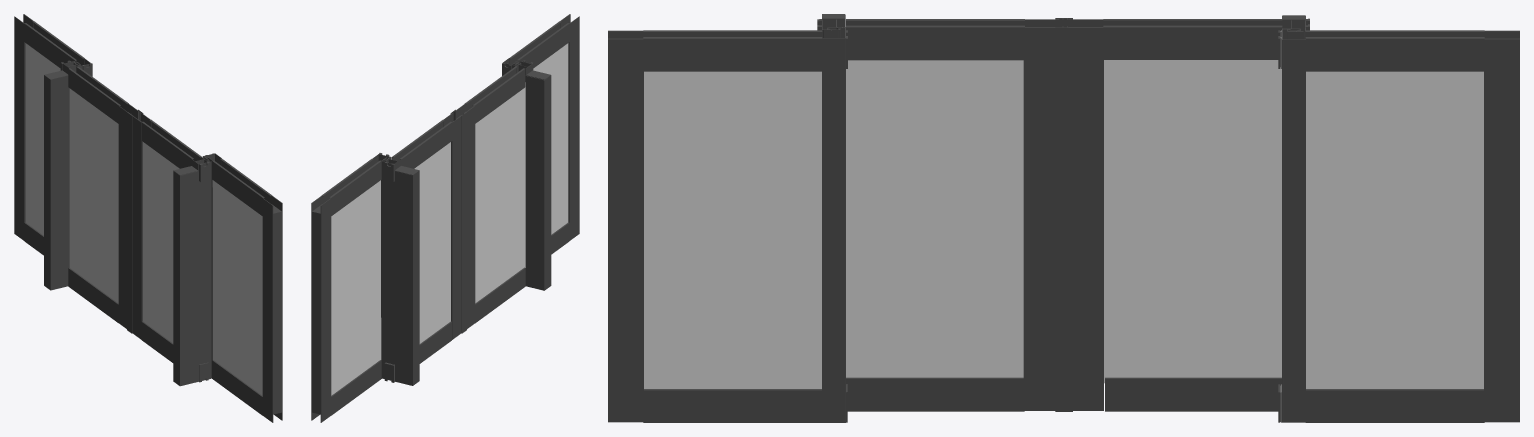
The model's file is Window_panels.gltf.
3 renders of one model, left to right at view 1: azimuth 30°, elevation 25°; view 2: azimuth 150°, elevation 25°; view 3: azimuth 270°, elevation 25°, orthographic. The views are drawn at different scales.
Visible parts, largest first — view 1: Window_panel_01, Window_panel_04, Window_panel_03, Window_panel_02; view 2: Window_panel_04, Window_panel_02, Window_panel_01, Window_panel_03; view 3: Window_panel_04, Window_panel_01, Window_panel_02, Window_panel_03.
Boxes of the visible parts, bbox=[...] form: Window_panel_01: bbox=[173, 153, 282, 422]; Window_panel_04: bbox=[14, 14, 92, 290]; Window_panel_03: bbox=[68, 66, 137, 328]; Window_panel_02: bbox=[127, 109, 201, 362]; Window_panel_04: bbox=[311, 153, 419, 422]; Window_panel_02: bbox=[450, 66, 525, 333]; Window_panel_01: bbox=[502, 14, 579, 290]; Window_panel_03: bbox=[392, 113, 461, 363]; Window_panel_04: bbox=[1278, 15, 1519, 422]; Window_panel_01: bbox=[608, 14, 847, 422]; Window_panel_02: bbox=[846, 18, 1072, 411]; Window_panel_03: bbox=[1068, 19, 1282, 411].
Size of the model in its own units: 0.4108 by 2.03 by 4.35.
Materials: 3 (1 with a texture image).
